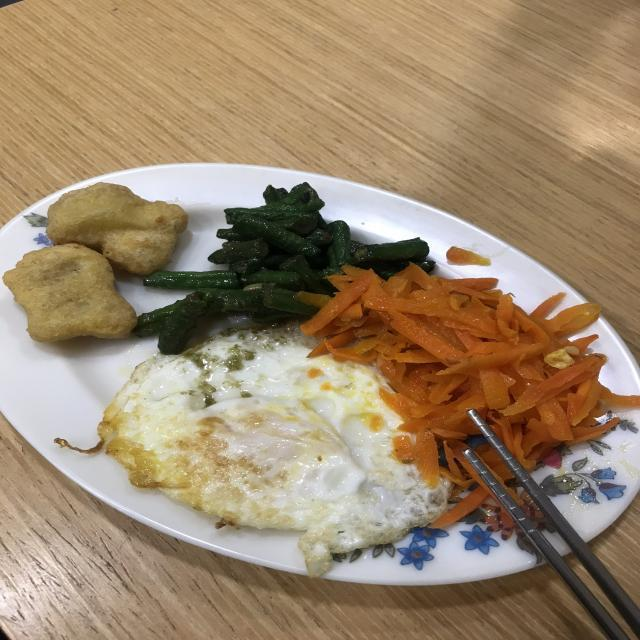carrot_eggs: (378, 268, 604, 496)
chicken_nuggets: (2, 183, 188, 343)
fried_eggs: (101, 331, 436, 544)
